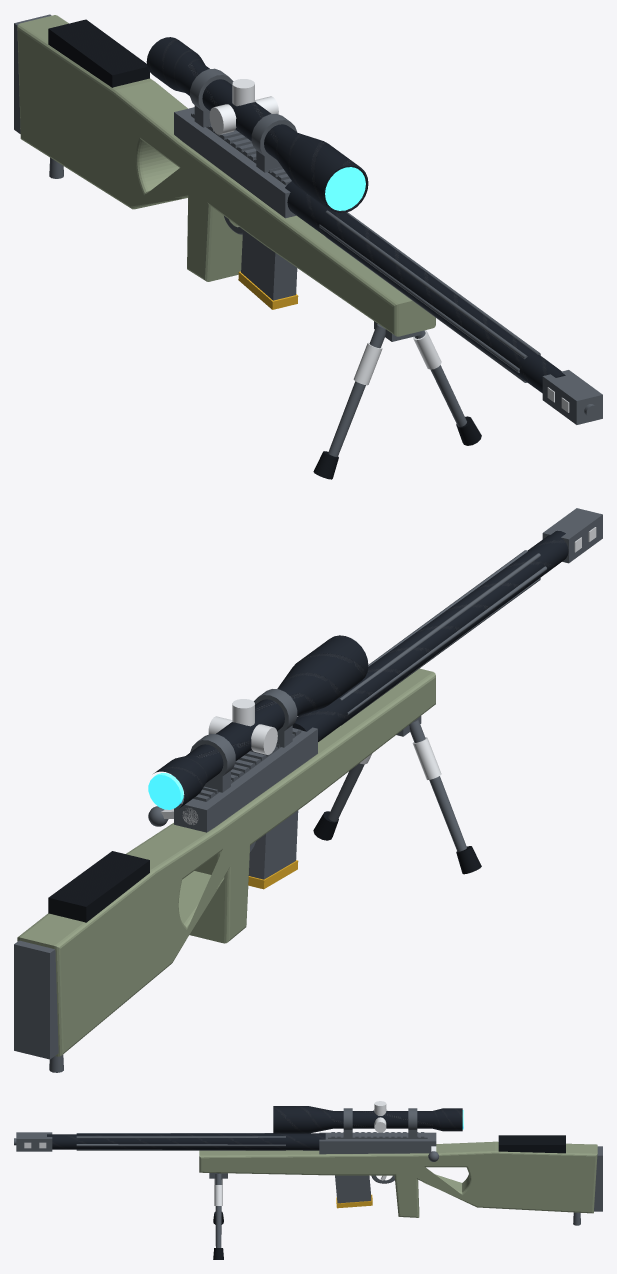
Rendered from awp_sniper.glb.
The picture shows the model from 3 angles, top to bottom: view 1: azimuth 30°, elevation 25°; view 2: azimuth 150°, elevation 25°; view 3: azimuth 270°, elevation 25°; orthographic projection. The views are drawn at different scales.
Visible parts, largest first — view 1: AWP_Body_chassis, AWP_Body_metalPrimary, AWP_Body_metalDark, AWP_Body_polymer, AWP_Body_metalChrome, AWP_Mag_metalDark, AWP_Body_lens, AWP_Mag_accent; view 2: AWP_Body_chassis, AWP_Body_metalDark, AWP_Body_metalPrimary, AWP_Body_polymer, AWP_Body_metalChrome, AWP_Mag_metalDark, AWP_Body_lens; view 3: AWP_Body_chassis, AWP_Body_metalPrimary, AWP_Body_metalDark, AWP_Body_polymer, AWP_Mag_metalDark, AWP_Body_metalChrome.
Boxes of the visible parts, <box> form: AWP_Body_chassis: <box>17,15,435,336</box>; AWP_Body_metalPrimary: <box>146,37,565,393</box>; AWP_Body_metalDark: <box>14,14,602,456</box>; AWP_Body_polymer: <box>48,19,481,479</box>; AWP_Body_metalChrome: <box>209,79,569,412</box>; AWP_Mag_metalDark: <box>241,230,297,300</box>; AWP_Body_lens: <box>325,167,365,210</box>; AWP_Mag_accent: <box>238,271,298,309</box>; AWP_Body_chassis: <box>17,668,435,1056</box>; AWP_Body_metalDark: <box>14,508,602,1072</box>; AWP_Body_metalPrimary: <box>153,530,568,808</box>; AWP_Body_polymer: <box>48,811,481,922</box>; AWP_Body_metalChrome: <box>208,527,596,779</box>; AWP_Mag_metalDark: <box>248,810,298,879</box>; AWP_Body_lens: <box>148,773,183,809</box>; AWP_Body_chassis: <box>199,1141,597,1217</box>; AWP_Body_metalPrimary: <box>47,1106,462,1150</box>; AWP_Body_metalDark: <box>14,1108,602,1247</box>; AWP_Body_polymer: <box>213,1135,565,1259</box>; AWP_Mag_metalDark: <box>335,1175,371,1203</box>; AWP_Body_metalChrome: <box>24,1101,387,1205</box>.
Size of the model in its own units: 0.2019 by 0.3084 by 1.18.
8 materials, 2 textured.
